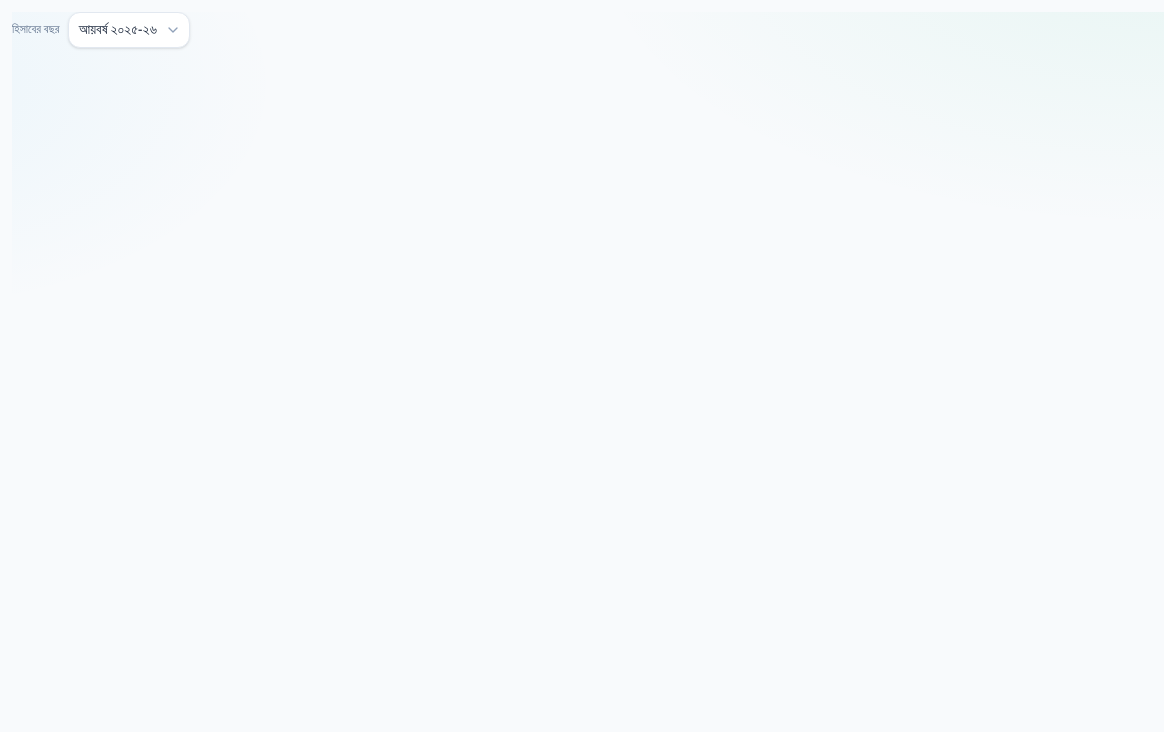
Select › closes on a click/tap outside
Step 1. Click the dropdown named "হিসাবের বছর" → (129, 30), box [68,12,190,48]
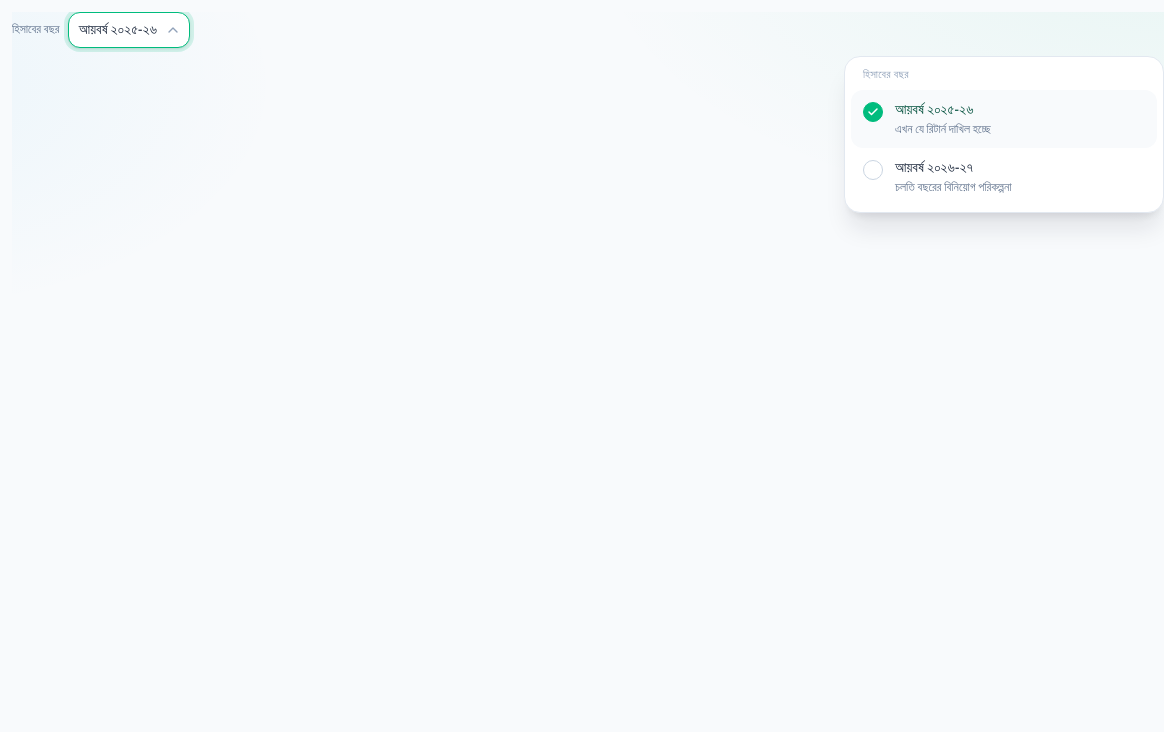
Step 2. Press the mouse on the element that starts with "হিসাবের বছর" → (588, 372), box [12,12,1163,731]
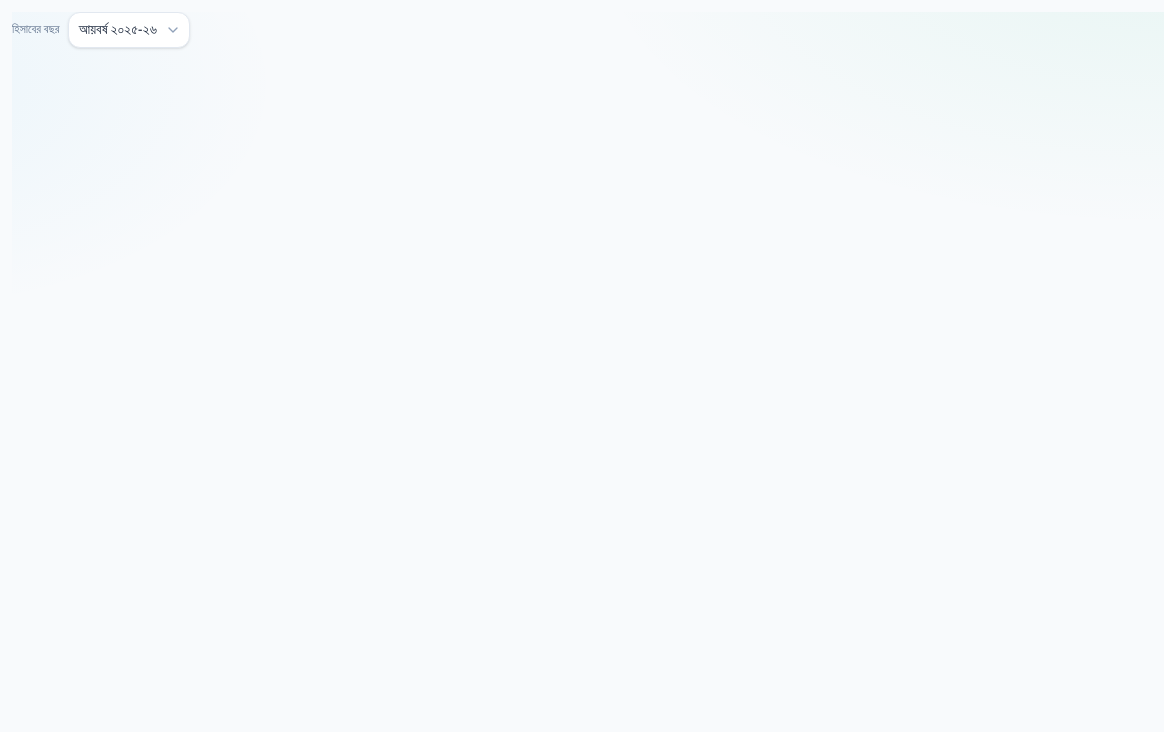
expect the list is gone: met
